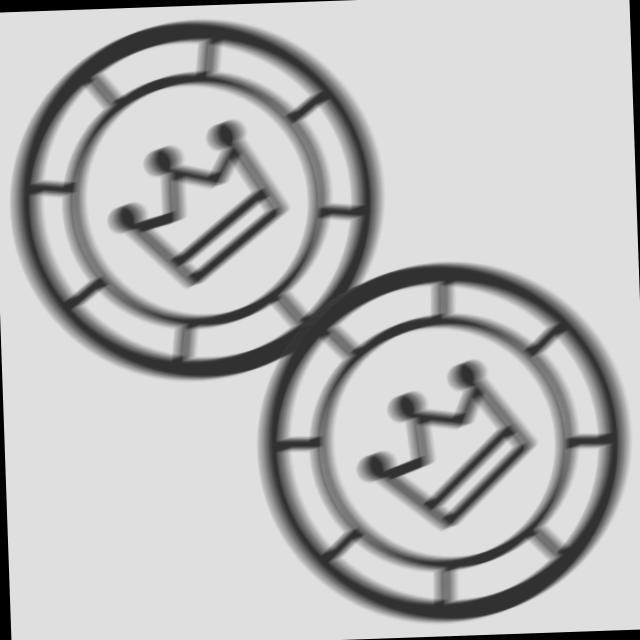coin: (1, 7, 402, 400), (240, 246, 640, 634)
